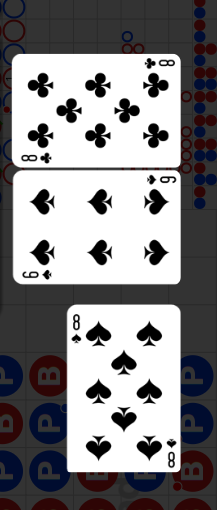6S: (21, 268, 54, 281)
8C: (142, 57, 176, 71)
8S: (164, 436, 177, 469)
